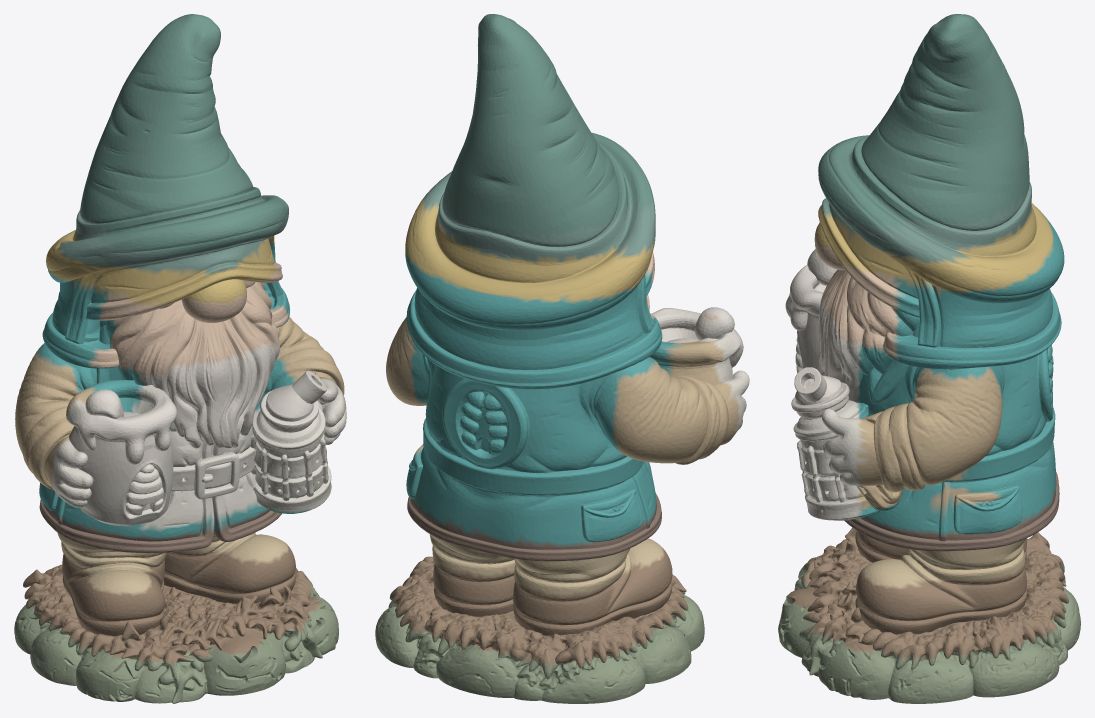
The model's file is beekeeper_detailed.glb.
3 renders of one model, left to right at view 1: azimuth 30°, elevation 25°; view 2: azimuth 150°, elevation 25°; view 3: azimuth 270°, elevation 25°, orthographic. The views are drawn at different scales.
Visible parts, largest first — view 1: Beekeeper_Gnome; view 2: Beekeeper_Gnome; view 3: Beekeeper_Gnome.
Boxes of the visible parts, x1,y1,x2,y2 form: Beekeeper_Gnome: (14,14,346,703); Beekeeper_Gnome: (375,14,749,703); Beekeeper_Gnome: (778,14,1080,703).
Bounding box in the file's own units: 0.6216 × 1.16 × 0.5042.
